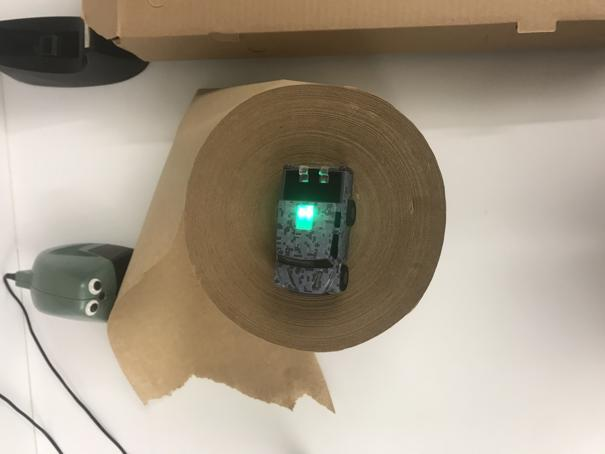MXT: (272, 164, 358, 297)
